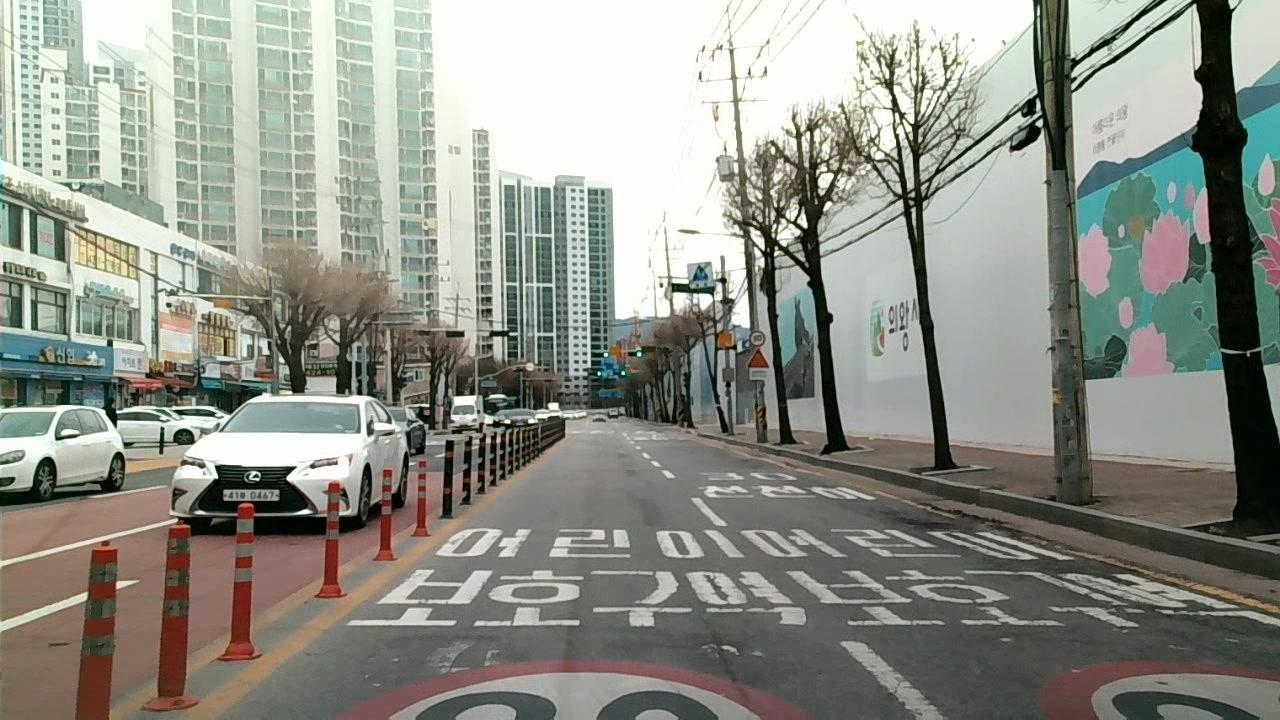banner: (1023, 533, 1142, 575), (920, 500, 1009, 531), (702, 621, 738, 690)
